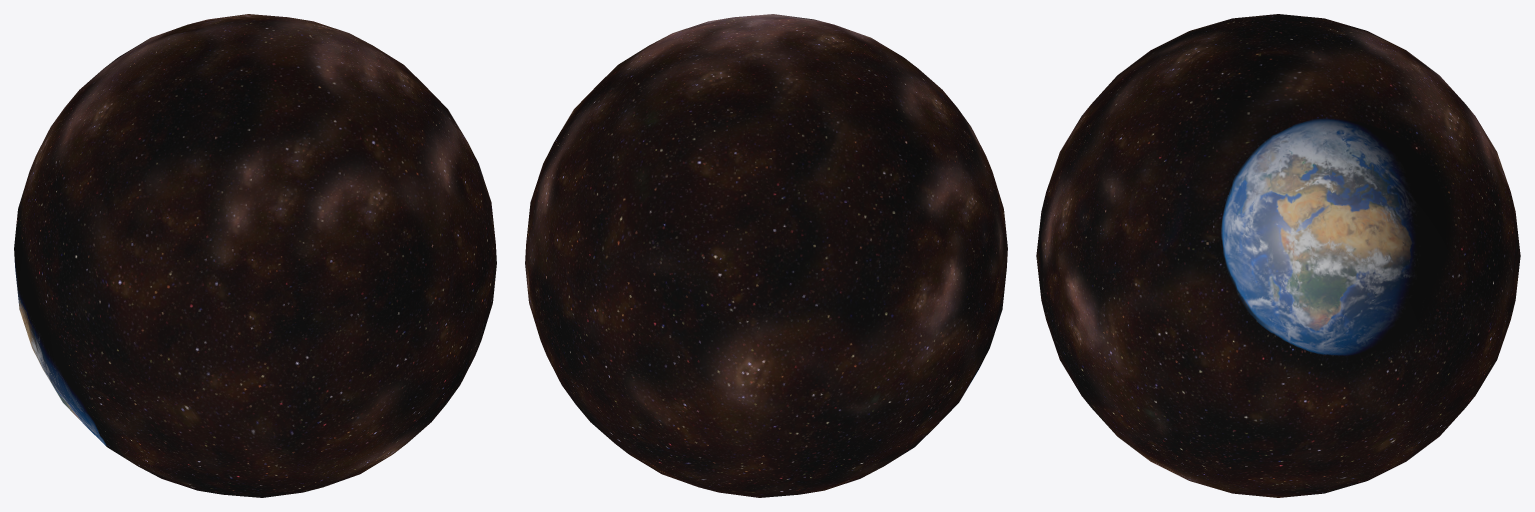
Rendered from space_Sphere.gltf.
The picture shows the model from 3 angles, left to right: view 1: azimuth 30°, elevation 25°; view 2: azimuth 150°, elevation 25°; view 3: azimuth 270°, elevation 25°; orthographic projection.
Parts seen in each view (by area): view 1: Space_Sphere_Inner_Normals; view 2: Space_Sphere_Inner_Normals; view 3: Space_Sphere_Inner_Normals.
Boxes of the visible parts, x1,y1,x2,y2 form: Space_Sphere_Inner_Normals: (14, 14, 496, 497); Space_Sphere_Inner_Normals: (525, 14, 1007, 497); Space_Sphere_Inner_Normals: (1036, 14, 1520, 497).
Bounding box in the file's own units: 8.8 × 8.8 × 8.8.
Materials: 1 (1 with a texture image).
